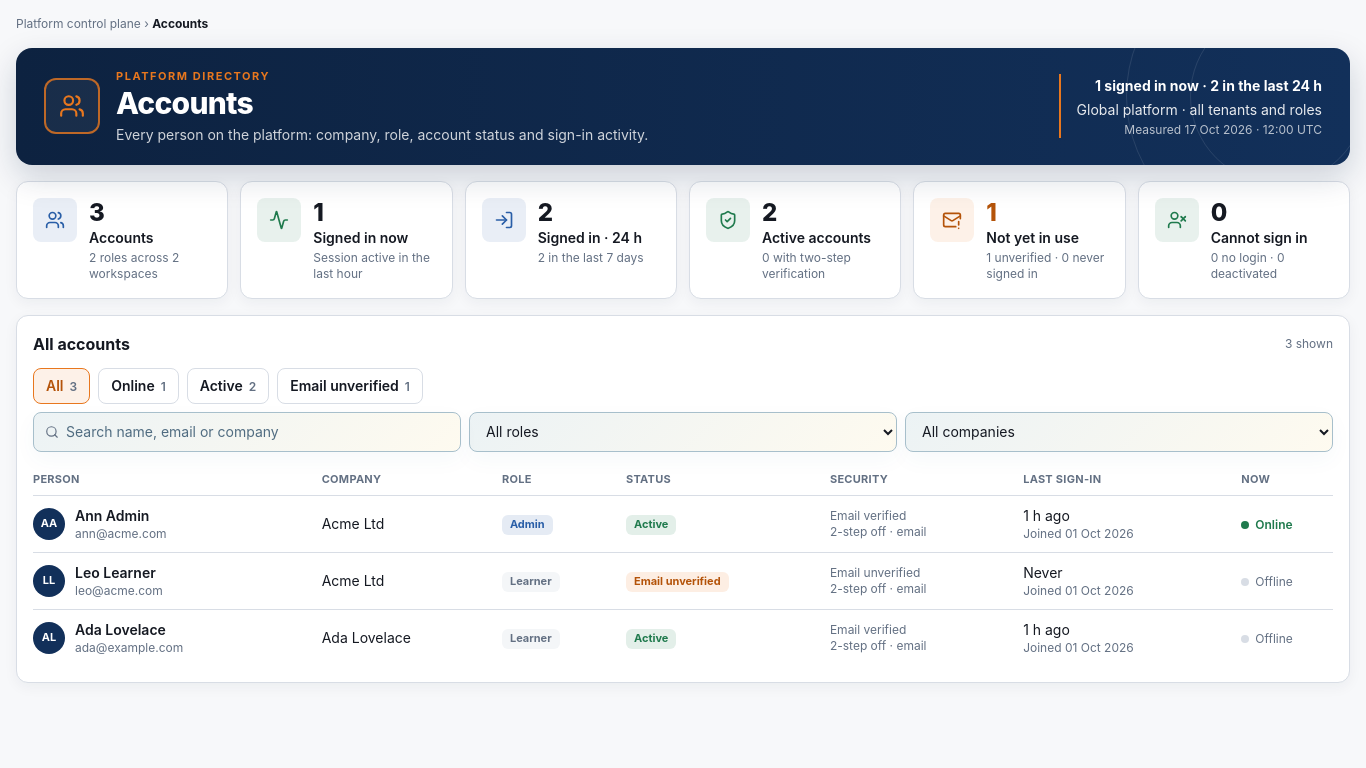
Test: Super Admin directory › lists every account across companies and roles, filterable by status
The width and height of the screenshot is (1366, 768).
Expected: the text "ann@acme.com" is shown, [75,526,167,542]
Expected: the text "leo@acme.com" is shown, [75,583,163,599]
Click the tab "Email unverified1" at (350, 386), box [277,368,423,404]
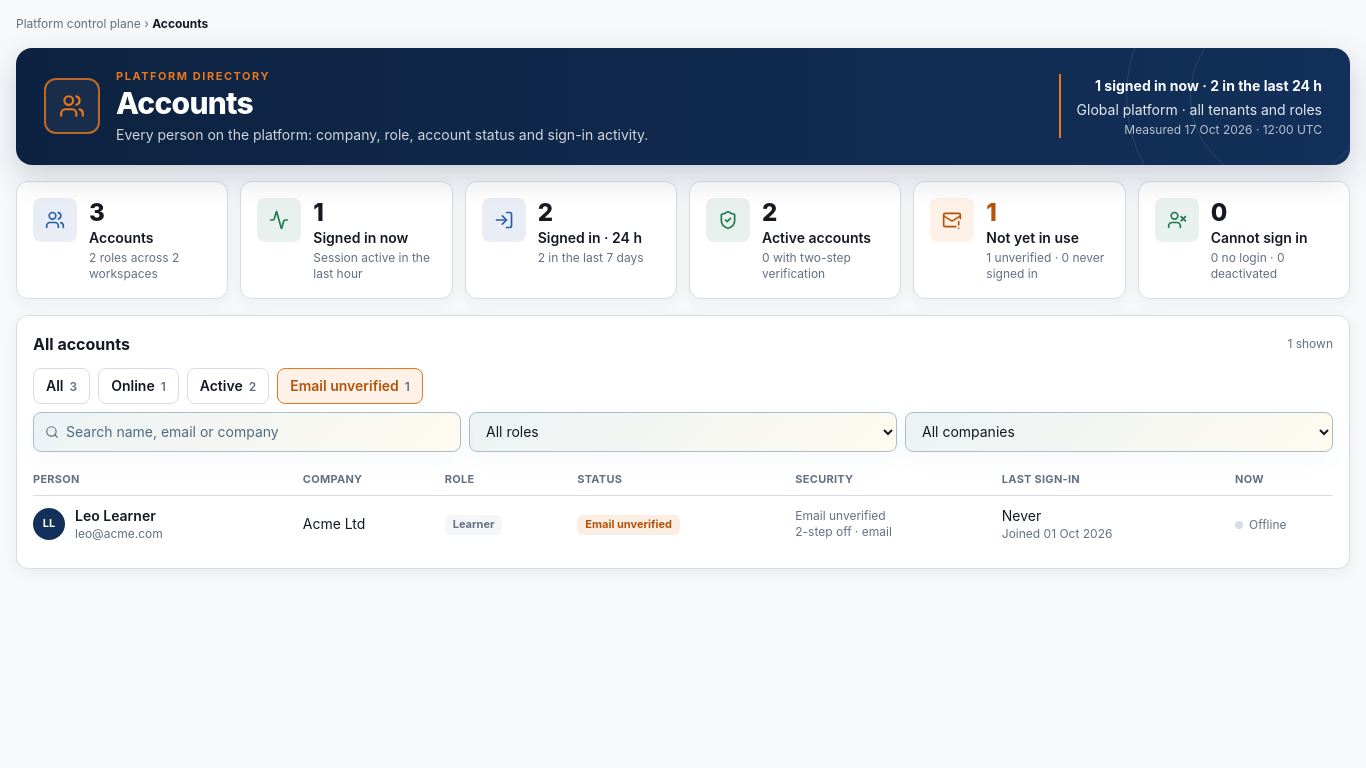
Expected: the text "leo@acme.com" is shown, [75,526,163,542]
Expected: the text "ann@acme.com" is gone
